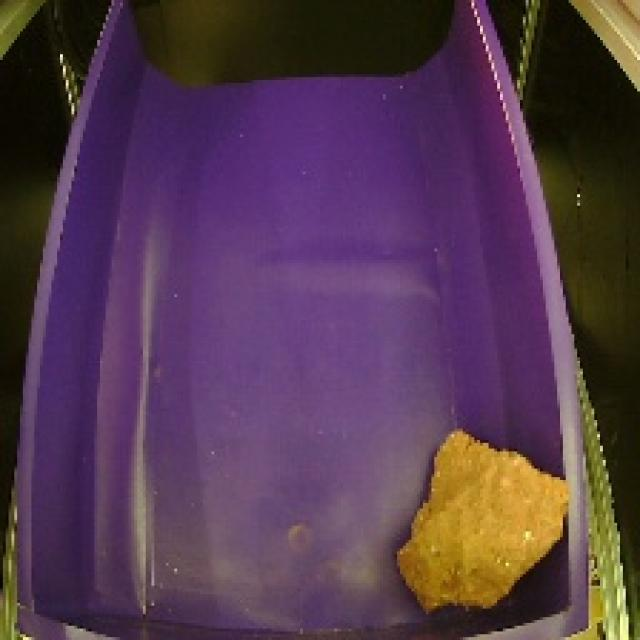brick: (391, 418, 575, 621)
